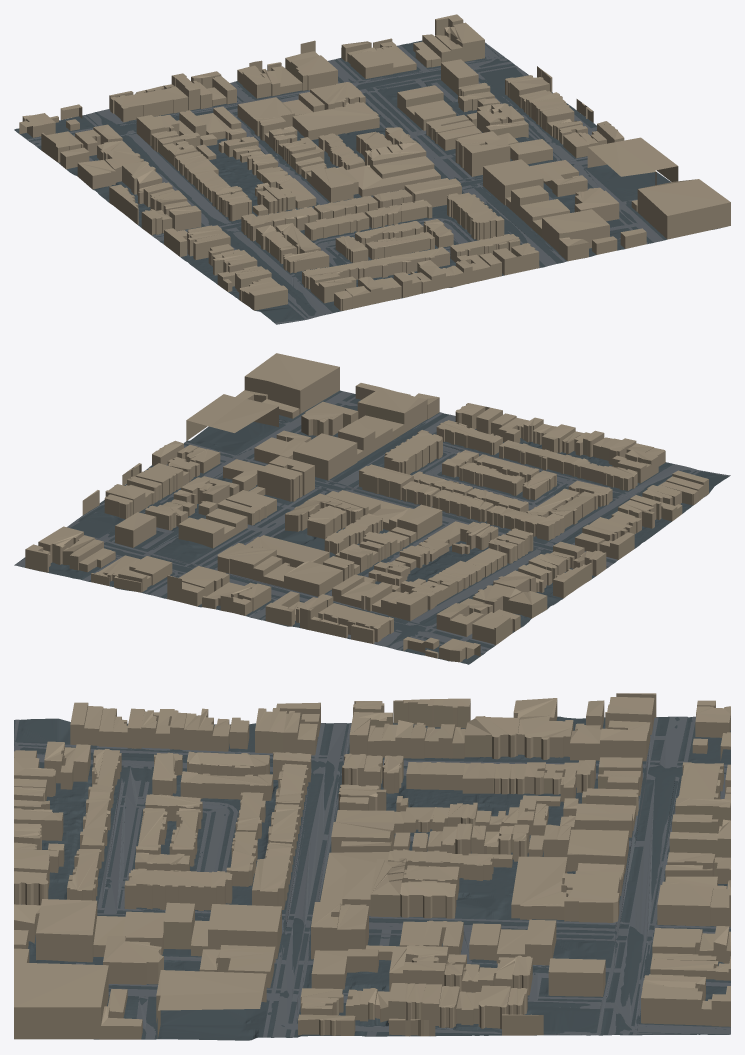
Rendered from epsg26910-1434-10885.lod0.glb.
3 renders of one model, top to bottom at view 1: azimuth 30°, elevation 25°; view 2: azimuth 150°, elevation 25°; view 3: azimuth 270°, elevation 25°, orthographic. The views are drawn at different scales.
Visible parts, largest first — view 1: epsg26910-1434-10885-lod0; view 2: epsg26910-1434-10885-lod0; view 3: epsg26910-1434-10885-lod0.
Part boxes in pixels (left/top/right/bottom): epsg26910-1434-10885-lod0: left=14, top=14, right=730, bottom=324; epsg26910-1434-10885-lod0: left=14, top=353, right=730, bottom=664; epsg26910-1434-10885-lod0: left=14, top=693, right=730, bottom=1040.
Bounding box in the file's own units: 384 × 26.1 × 384.
